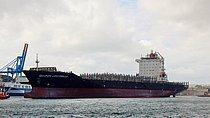Ship: (19, 43, 194, 103)
